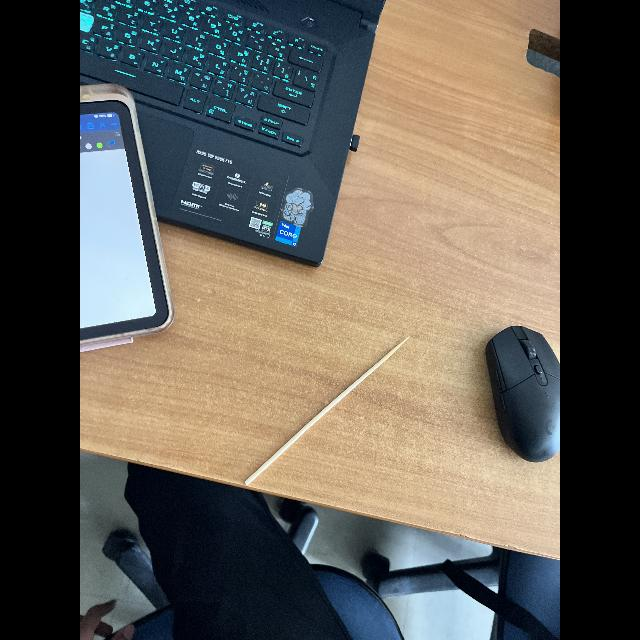stick: (224, 322, 426, 503)
